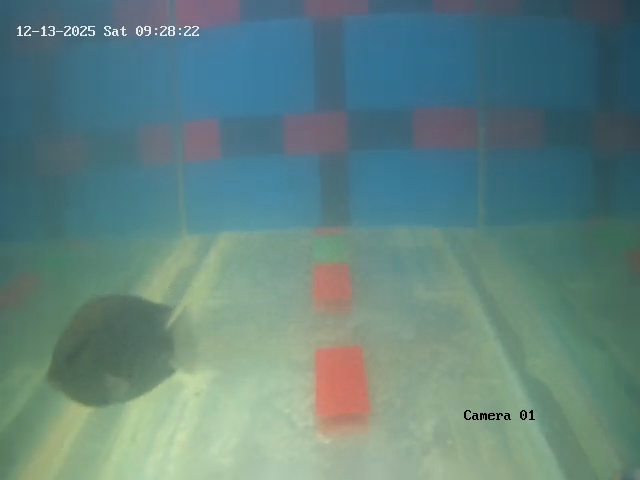fish: (42, 293, 191, 403)
